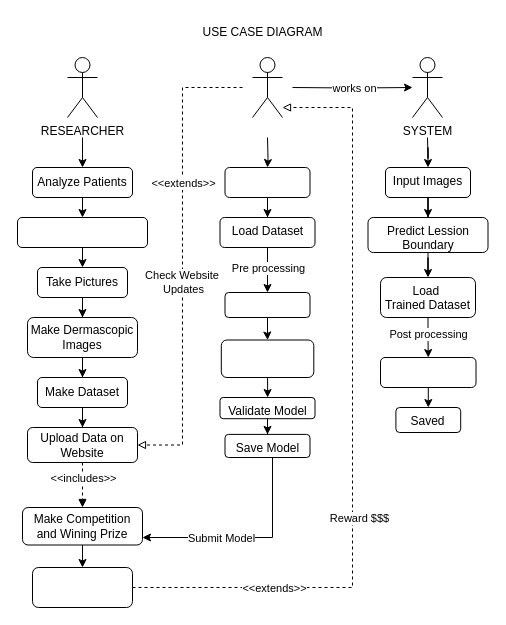
The diagram is 506 pixels wide and 625 high, and some of its shapes have lost their labels. Here are the shapes that lost their labels. From the top down, the box of each, then its label:
(252, 56, 282, 118): DEVELOPER
(224, 166, 310, 198): Take Dataset
(16, 216, 148, 248): Perform Cancer Test
(224, 292, 310, 318): Train Model
(220, 339, 314, 378): Tune Hyperparams
(380, 356, 476, 388): Display Output
(32, 566, 132, 608): Requirements are met
